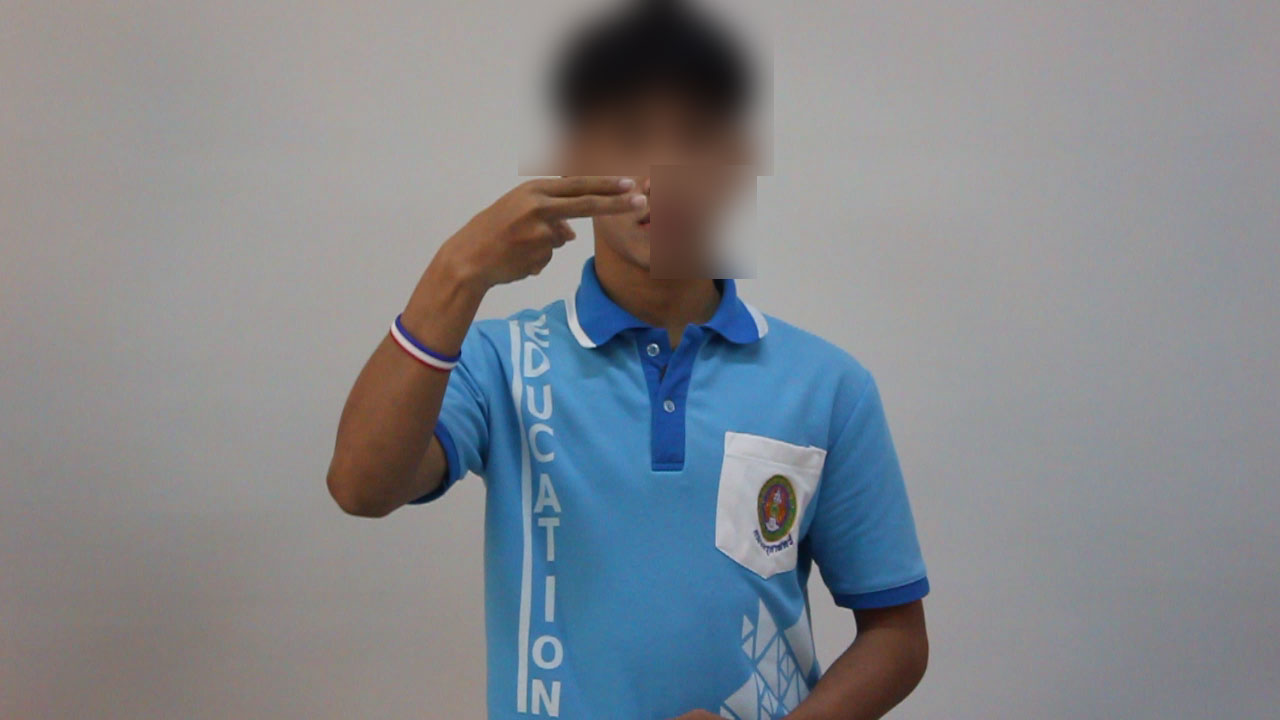hor: (433, 164, 657, 304)
